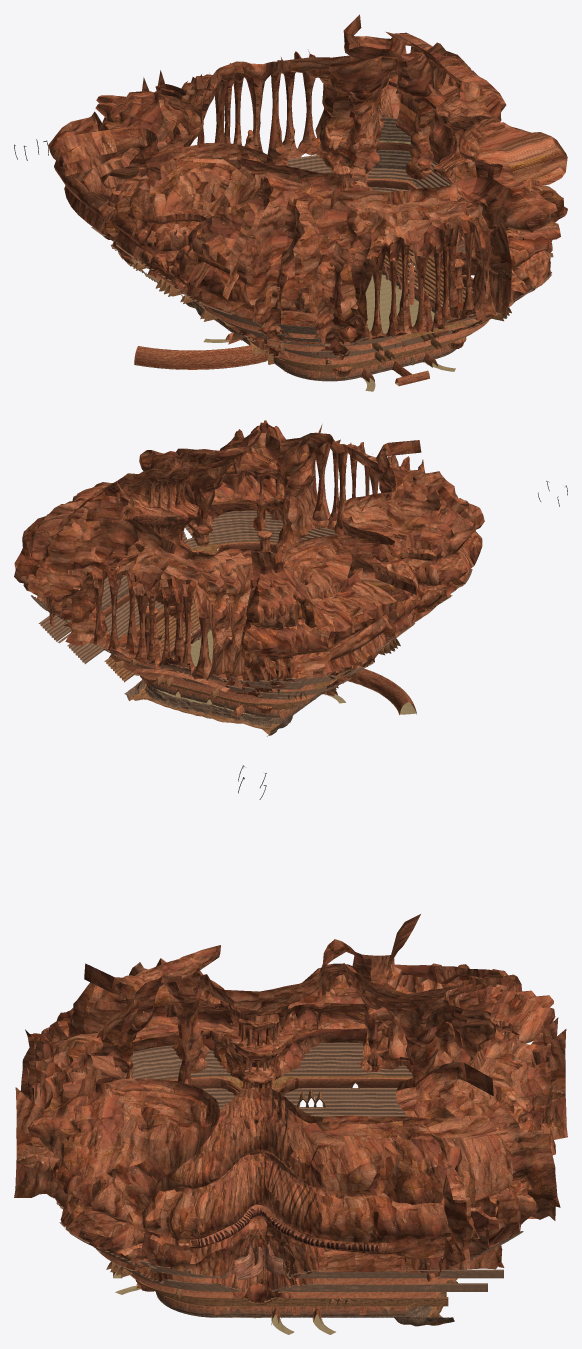
Rendered from arena_optimized.glb.
The picture shows the model from 3 angles, top to bottom: view 1: azimuth 30°, elevation 25°; view 2: azimuth 150°, elevation 25°; view 3: azimuth 270°, elevation 25°; orthographic projection. The views are drawn at different scales.
Parts seen in each view (by area): view 1: TunnelSide1.001_Material.068_0, Stairs.003_Material.047_0, RockSidingP3_Material.030_0, Floor.001_Material.204_0, Floor.002_Material.002_0, Stairs.007_Material.061_0, WallsArena.041_Material.006_0, WallsArena.029_Material.013_0, Stairs.001_Material.050_0; view 2: TunnelSide1.001_Material.068_0, Stairs.003_Material.047_0, Floor.001_Material.204_0, RockSidingP3_Material.030_0, Floor_Material.077_0, Floor.002_Material.002_0, WallsArena.029_Material.013_0, WallsArena.041_Material.006_0, Stairs.001_Material.050_0; view 3: TunnelSide1.001_Material.068_0, Stairs.003_Material.047_0, RockSidingP3_Material.030_0, Floor.001_Material.204_0, WallsArena.041_Material.006_0, FrontEntrance.60_Material.023_0, FrontEntrance.79_Material.020_0, Stairs.001_Material.050_0, Floor_Material.077_0.
Part boxes in pixels (<box>): TunnelSide1.001_Material.068_0: <box>48,14,567,385</box>; Stairs.003_Material.047_0: <box>91,155,553,358</box>; RockSidingP3_Material.030_0: <box>148,142,513,382</box>; Floor.001_Material.204_0: <box>133,247,511,371</box>; Floor.002_Material.002_0: <box>136,274,455,391</box>; Stairs.007_Material.061_0: <box>277,114,411,342</box>; WallsArena.041_Material.006_0: <box>199,262,456,381</box>; WallsArena.029_Material.013_0: <box>218,166,466,378</box>; Stairs.001_Material.050_0: <box>201,178,478,366</box>; TunnelSide1.001_Material.068_0: <box>14,420,484,714</box>; Stairs.003_Material.047_0: <box>38,510,472,699</box>; Floor.001_Material.204_0: <box>104,598,400,736</box>; RockSidingP3_Material.030_0: <box>64,542,433,717</box>; Floor_Material.077_0: <box>120,585,293,732</box>; Floor.002_Material.002_0: <box>156,630,416,715</box>; WallsArena.029_Material.013_0: <box>137,530,308,713</box>; WallsArena.041_Material.006_0: <box>142,622,290,717</box>; Stairs.001_Material.050_0: <box>118,541,339,712</box>; TunnelSide1.001_Material.068_0: <box>14,914,567,1324</box>; Stairs.003_Material.047_0: <box>53,1042,503,1291</box>; RockSidingP3_Material.030_0: <box>97,1076,536,1298</box>; Floor.001_Material.204_0: <box>106,1082,457,1326</box>; WallsArena.041_Material.006_0: <box>156,1292,417,1317</box>; FrontEntrance.60_Material.023_0: <box>196,1204,378,1252</box>; FrontEntrance.79_Material.020_0: <box>233,1241,284,1279</box>; Stairs.001_Material.050_0: <box>131,1074,420,1306</box>; Floor_Material.077_0: <box>194,1252,454,1326</box>.
Size of the model in its own units: 119365 by 61116 by 92995.
Materials: 47 (43 with a texture image).
